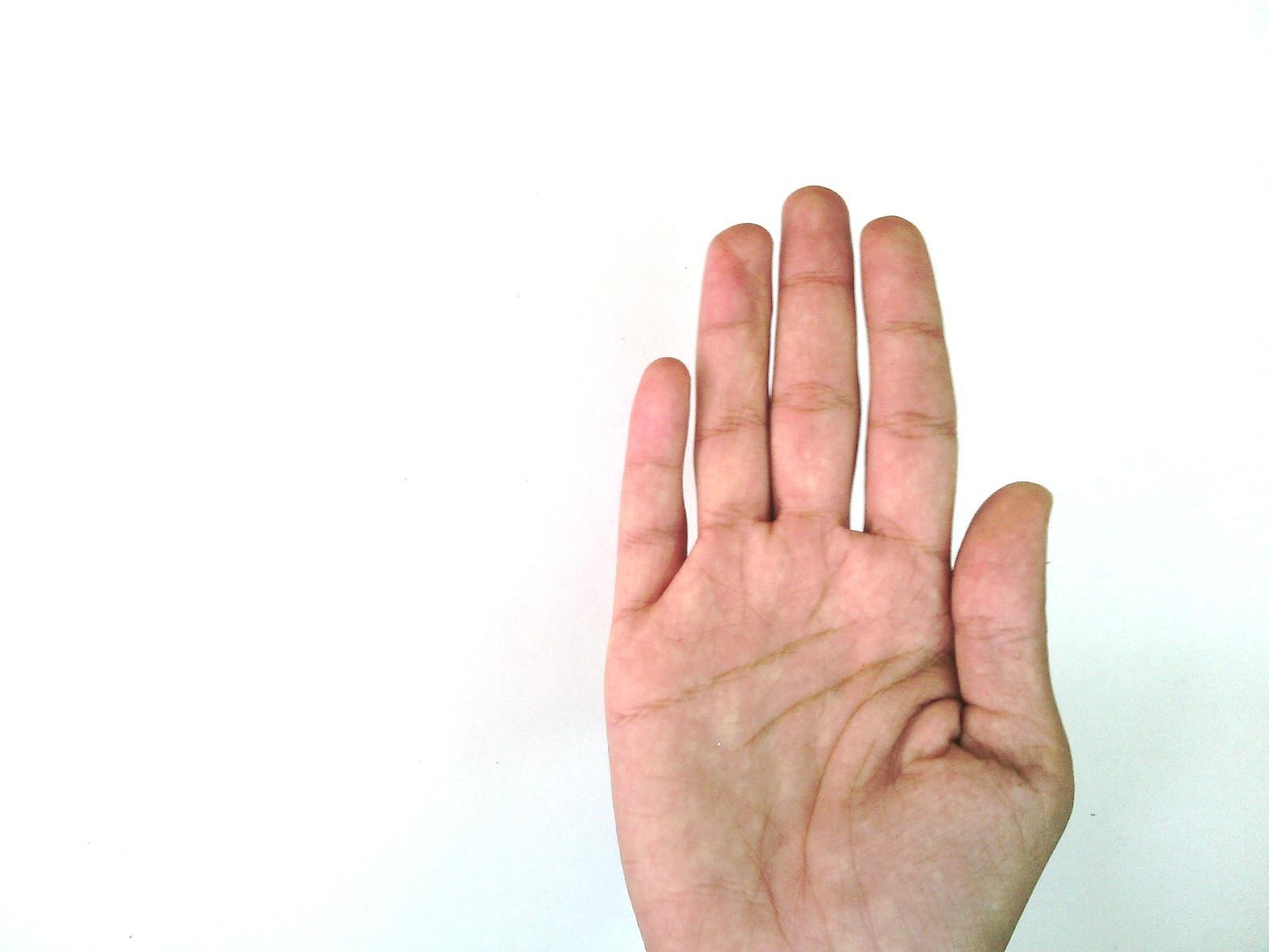open_palm: (600, 184, 1079, 951)
